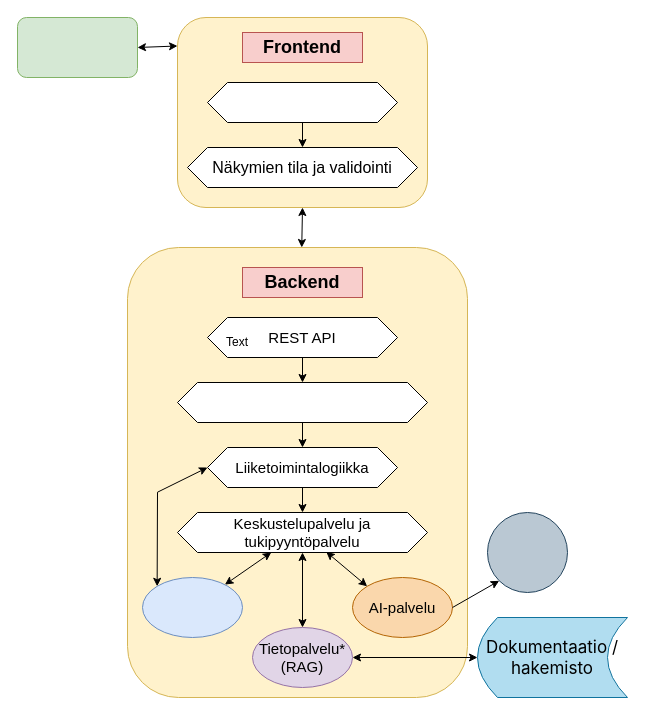
This 645x715 diagram has some shape labels left out. Here are the shapes that lost their labels. From the top down, the centre of each, then its label:
At pixel 77 47: "Käyttjäjä".
At pixel 302 102: "Web-käyttöliittymä".
At pixel 302 402: "Autentikointi ja käyttöoikeudet".
At pixel 527 552: "AI model".
At pixel 192 607: "Tietokanta".
